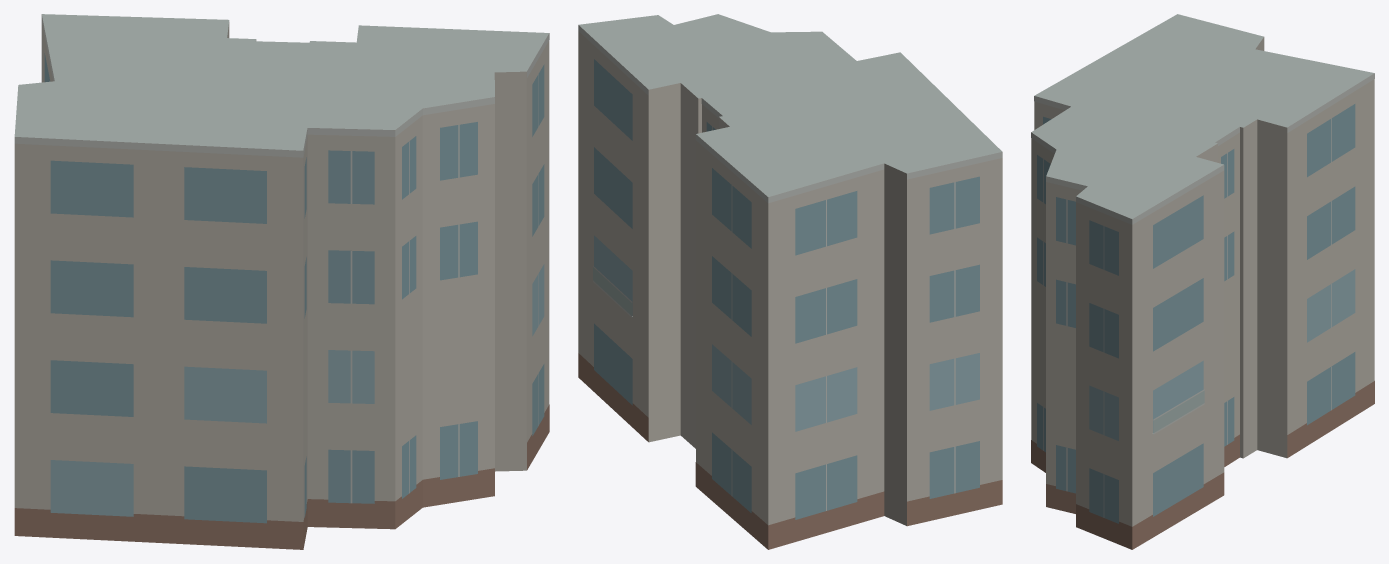
File: survey-upis-32462892.glb
3 views of the same model, side by side, from view 1: azimuth 30°, elevation 25°; view 2: azimuth 150°, elevation 25°; view 3: azimuth 270°, elevation 25° (orthographic). The views are drawn at different scales.
Visible parts, largest first — view 1: survey-upis-32462892.tmp; view 2: survey-upis-32462892.tmp; view 3: survey-upis-32462892.tmp.
Part boxes in pixels (x1=…): survey-upis-32462892.tmp: x1=14, y1=14, x2=549, y2=549; survey-upis-32462892.tmp: x1=578, y1=14, x2=1002, y2=549; survey-upis-32462892.tmp: x1=1031, y1=14, x2=1374, y2=549.
Size of the model in its own units: 18.9 by 14.2 by 13.38.
